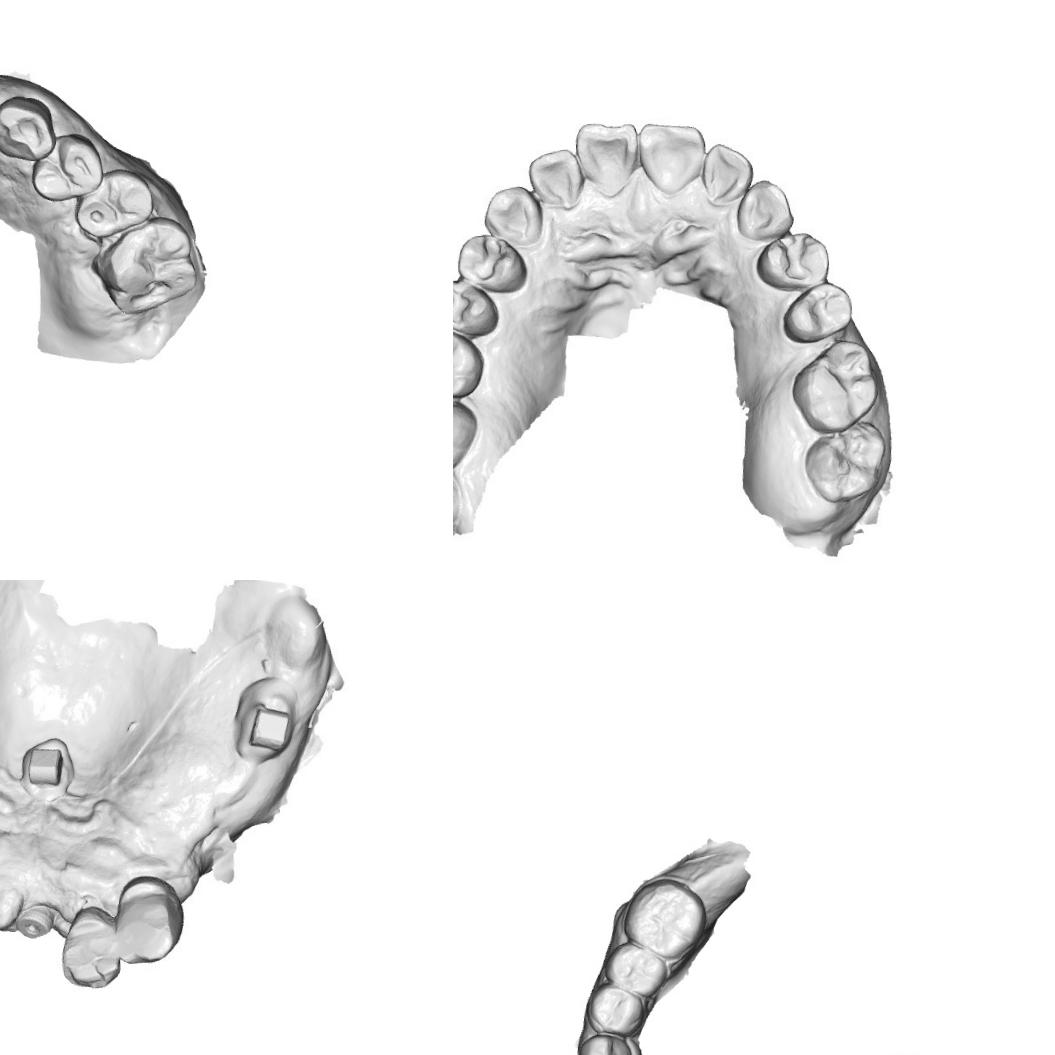canine: (113, 884, 185, 968), (0, 92, 60, 164), (478, 184, 547, 246), (731, 177, 794, 244), (573, 1029, 635, 1055)
implant: (15, 896, 59, 942)
incisor: (52, 908, 126, 994), (638, 119, 705, 195), (573, 118, 639, 189), (527, 145, 584, 210), (701, 137, 749, 198)
molar: (90, 212, 200, 319), (786, 336, 886, 436), (619, 875, 709, 963), (804, 424, 888, 504), (453, 382, 477, 474), (453, 452, 471, 543), (453, 322, 478, 386)
premolar: (69, 164, 157, 241), (26, 131, 105, 204), (752, 229, 830, 295), (778, 282, 853, 344), (602, 936, 670, 998), (581, 980, 647, 1038), (453, 275, 501, 341), (455, 232, 516, 282)
